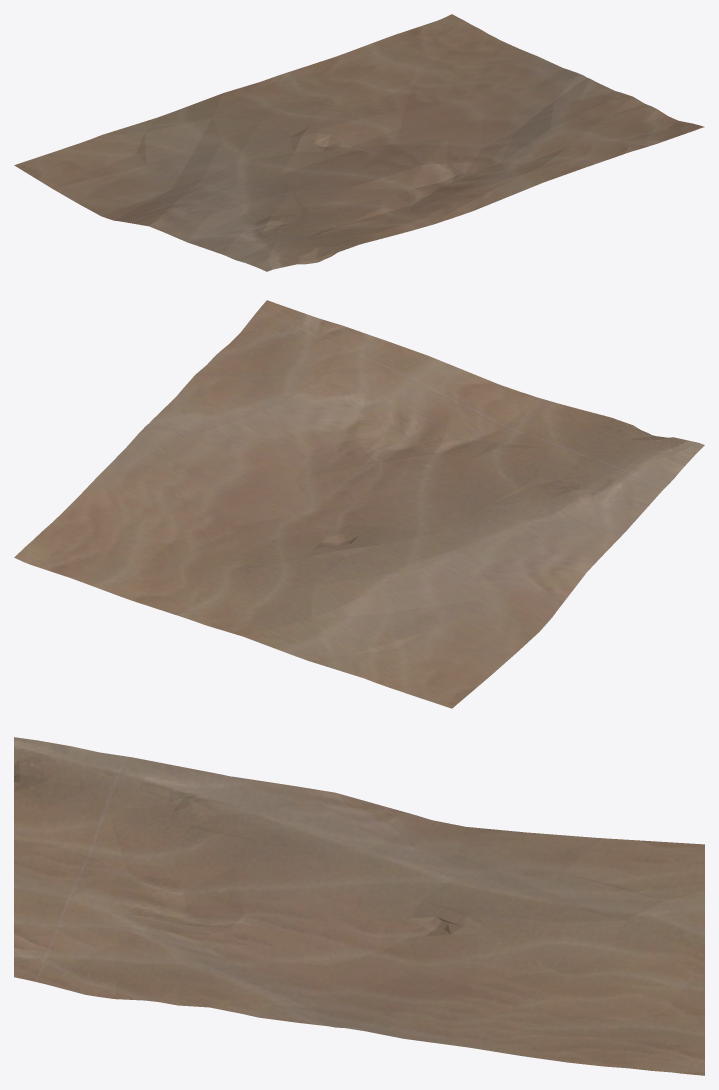
3 views of the same model, one above another, from view 1: azimuth 30°, elevation 25°; view 2: azimuth 150°, elevation 25°; view 3: azimuth 270°, elevation 25° (orthographic). The views are drawn at different scales.
Bounding box in the file's own units: 1.04 × 0.2655 × 1.04.
Materials: 2 (2 with a texture image).
